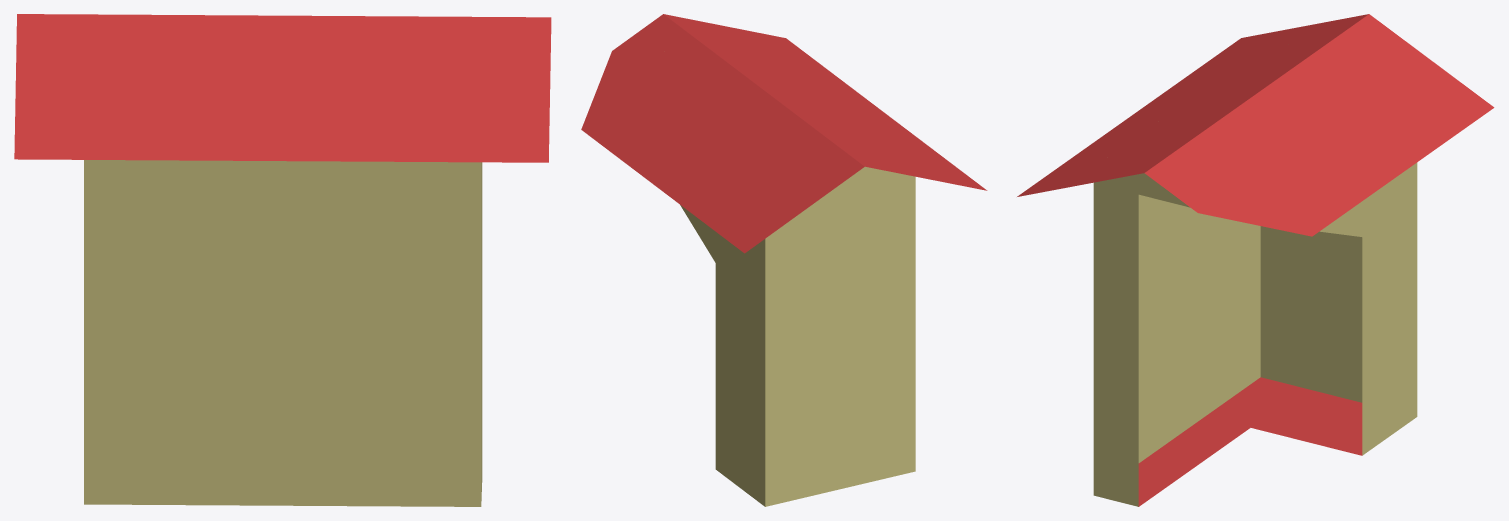
The picture shows the model from 3 angles, left to right: view 1: azimuth 30°, elevation 25°; view 2: azimuth 150°, elevation 25°; view 3: azimuth 270°, elevation 25°; orthographic projection. The views are drawn at different scales.
Size of the model in its own units: 12.93 by 12.75 by 10.68.
